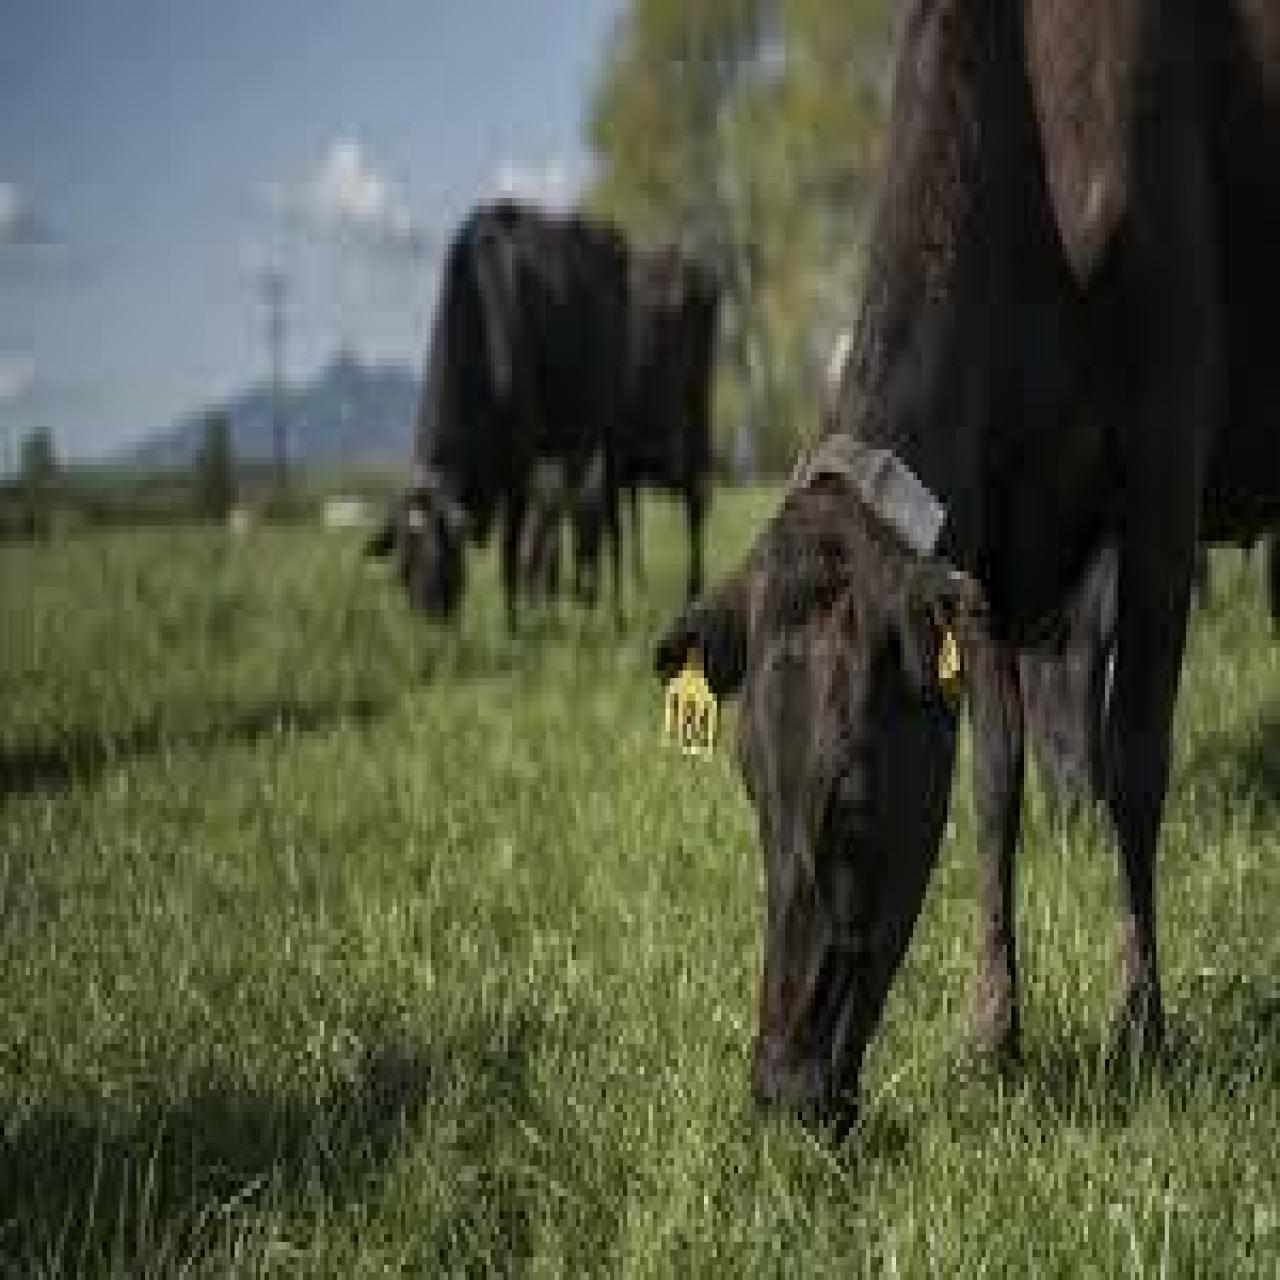cow: (661, 19, 1280, 1131), (380, 202, 717, 613)
